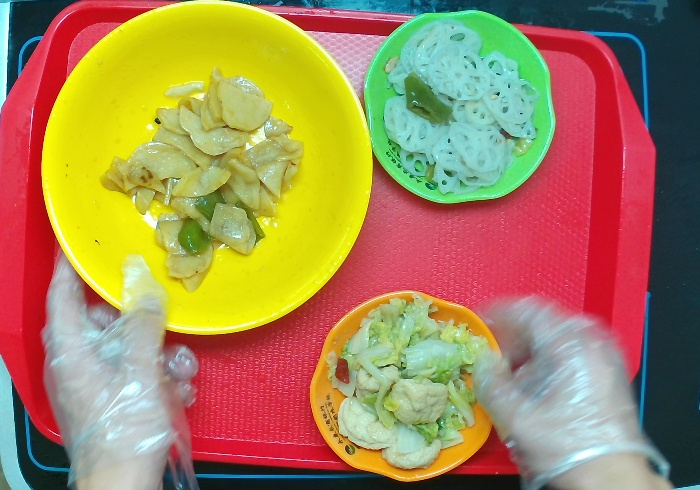YKMZ-Huang_Se_Tang_Wan: (34, 1, 376, 338)
YKMZ-Ju_Se_Ao_Bian_Wan: (300, 285, 508, 487)
YKMZ-Lv_Se_Ao_Bian_Wan: (357, 5, 562, 209)
